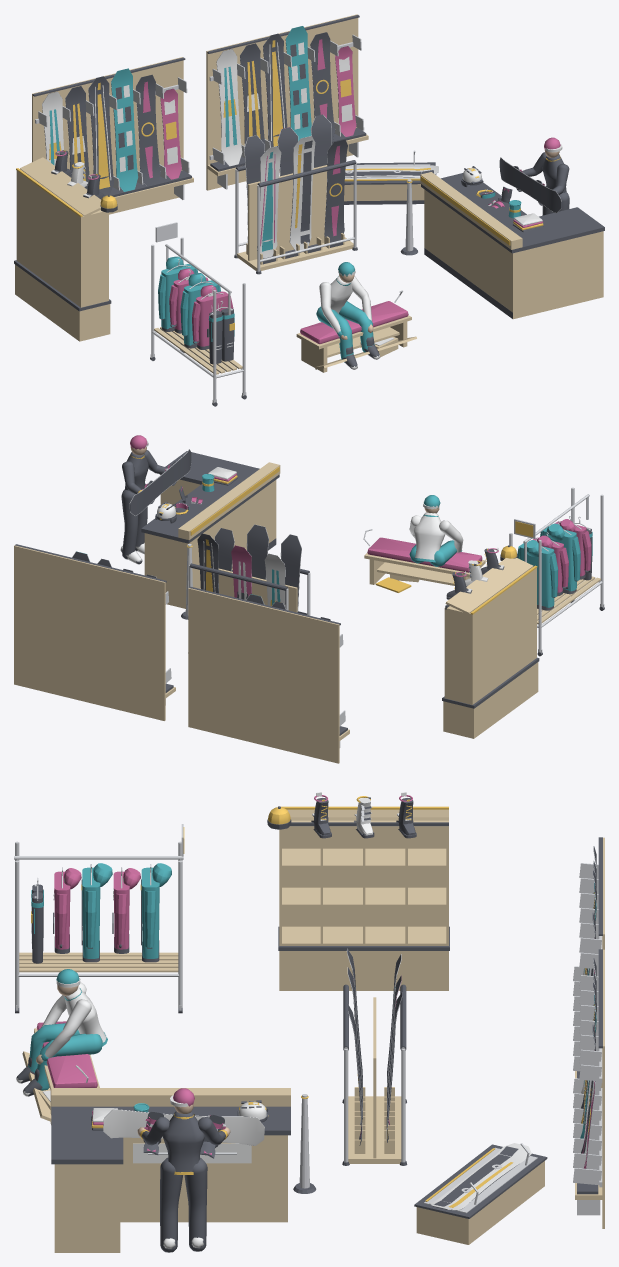
Rendered from snowboard-gear-and-freestyle-riders-rent-2cfb45a4-starter-scene__27190.glb.
3 renders of one model, top to bottom at view 1: azimuth 30°, elevation 25°; view 2: azimuth 150°, elevation 25°; view 3: azimuth 270°, elevation 25°, orthographic. The views are drawn at different scales.
Visible parts, largest first — view 1: 002-boot-wall/0, 012-hire-counter/0, 000-wall-board-rack-stocked/2, 001-wall-board-rack-stocked/0, 020-floor-board-rack-stocked/1, 001-wall-board-rack-stocked/2, 000-wall-board-rack-stocked/0, 012-hire-counter/1, 020-floor-board-rack-stocked/2, 001-wall-board-rack-stocked/3, 020-floor-board-rack-stocked/3, 013-shop-assistant-presenting-board/0 (+27 smaller); view 2: 000-wall-board-rack-stocked/0, 001-wall-board-rack-stocked/0, 002-boot-wall/0, 012-hire-counter/0, 020-floor-board-rack-stocked/1, 013-shop-assistant-presenting-board/0, 012-hire-counter/1, 006-apparel-rail/0, 018-fitting-bench/0, 019-customer-boot-fitting/0, 007-shell-jacket-on-hanger/1, 018-fitting-bench/1 (+13 smaller); view 3: 002-boot-wall/0, 012-hire-counter/0, 013-shop-assistant-presenting-board/0, 012-hire-counter/1, 001-wall-board-rack-stocked/1, 020-floor-board-rack-stocked/2, 021-display-podium/0, 006-apparel-rail/0, 006-apparel-rail/1, 000-wall-board-rack-stocked/1, 020-floor-board-rack-stocked/1, 013-shop-assistant-presenting-board/3 (+20 smaller).
Part boxes in pixels (left/top/right/bottom): 002-boot-wall/0: left=15, top=157, right=110, bottom=341; 012-hire-counter/0: left=420, top=172, right=603, bottom=319; 000-wall-board-rack-stocked/2: left=33, top=57, right=191, bottom=196; 001-wall-board-rack-stocked/0: left=206, top=14, right=368, bottom=190; 020-floor-board-rack-stocked/1: left=234, top=114, right=357, bottom=274; 001-wall-board-rack-stocked/2: left=207, top=15, right=366, bottom=171; 000-wall-board-rack-stocked/0: left=32, top=57, right=193, bottom=214; 012-hire-counter/1: left=400, top=173, right=604, bottom=318; 020-floor-board-rack-stocked/2: left=237, top=165, right=353, bottom=270; 001-wall-board-rack-stocked/3: left=217, top=42, right=352, bottom=166; 020-floor-board-rack-stocked/3: left=245, top=135, right=315, bottom=258; 013-shop-assistant-presenting-board/0: left=499, top=152, right=569, bottom=215; 000-wall-board-rack-stocked/0: left=188, top=588, right=349, bottom=763; 001-wall-board-rack-stocked/0: left=14, top=545, right=175, bottom=720; 002-boot-wall/0: left=443, top=558, right=538, bottom=738; 012-hire-counter/0: left=144, top=462, right=280, bottom=608; 020-floor-board-rack-stocked/1: left=189, top=524, right=309, bottom=606; 013-shop-assistant-presenting-board/0: left=121, top=449, right=191, bottom=564; 012-hire-counter/1: left=141, top=451, right=279, bottom=619; 006-apparel-rail/0: left=509, top=487, right=604, bottom=653; 018-fitting-bench/0: left=364, top=553, right=485, bottom=585; 019-customer-boot-fitting/0: left=409, top=501, right=463, bottom=559; 007-shell-jacket-on-hanger/1: left=517, top=540, right=558, bottom=607; 018-fitting-bench/1: left=367, top=537, right=482, bottom=572; 002-boot-wall/0: left=279, top=809, right=448, bottom=990; 012-hire-counter/0: left=51, top=1088, right=290, bottom=1252; 013-shop-assistant-presenting-board/0: left=103, top=1110, right=251, bottom=1252; 012-hire-counter/1: left=51, top=1106, right=316, bottom=1193; 001-wall-board-rack-stocked/1: left=573, top=964, right=602, bottom=1215; 020-floor-board-rack-stocked/2: left=348, top=997, right=401, bottom=1163; 021-display-podium/0: left=416, top=1161, right=544, bottom=1244; 006-apparel-rail/0: left=14, top=824, right=183, bottom=1010; 006-apparel-rail/1: left=19, top=952, right=178, bottom=972; 000-wall-board-rack-stocked/1: left=573, top=852, right=602, bottom=1071; 020-floor-board-rack-stocked/1: left=342, top=949, right=407, bottom=1165; 013-shop-assistant-presenting-board/3: left=103, top=1095, right=264, bottom=1248.
Size of the model in its own units: 6.46 by 2.03 by 5.57.
